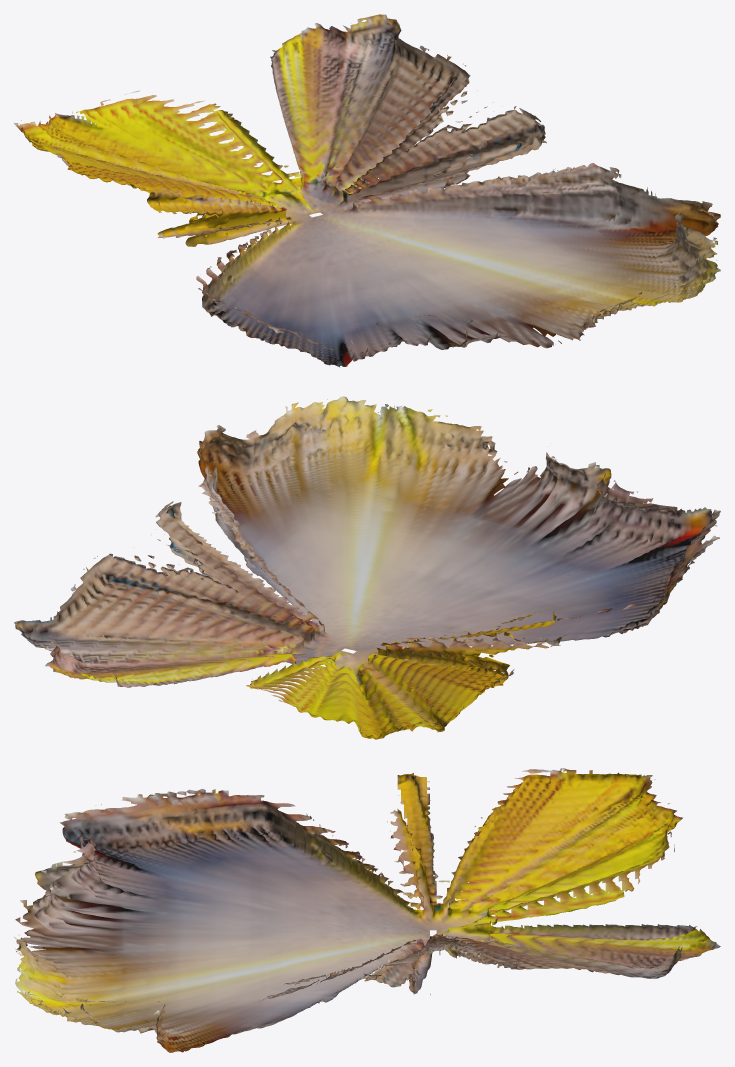
The model's file is draft1.glb.
3 views of the same model, one above another, from view 1: azimuth 30°, elevation 25°; view 2: azimuth 150°, elevation 25°; view 3: azimuth 270°, elevation 25° (orthographic). The views are drawn at different scales.
Visible parts, largest first — view 1: world; view 2: world; view 3: world.
Part boxes in pixels (box(x1,y1,x2,y2)): world: box(14, 14, 720, 367); world: box(14, 396, 720, 739); world: box(14, 768, 720, 1052).
Bounding box in the file's own units: 131 × 19.06 × 166.
